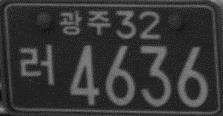2: (138, 10, 161, 41)
3: (138, 43, 172, 107), (114, 9, 136, 38)
4: (66, 43, 101, 106)
6: (175, 44, 209, 108), (103, 43, 136, 107)
광주_O: (59, 9, 111, 36)
러: (18, 42, 54, 86)
